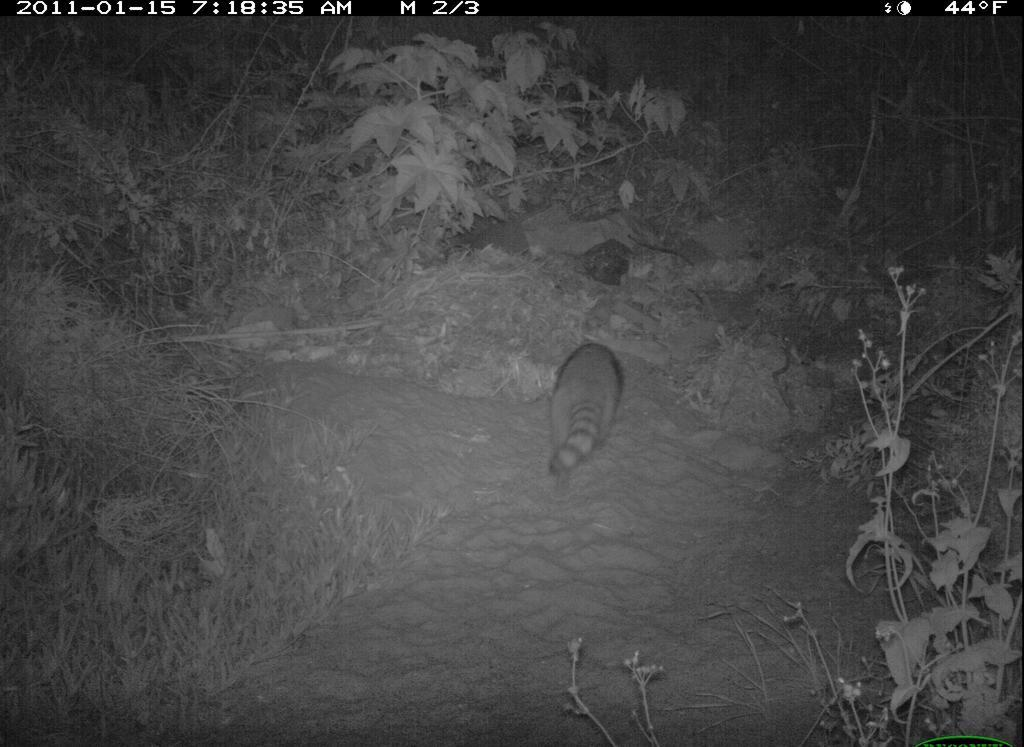raccoon: (530, 324, 642, 489)
